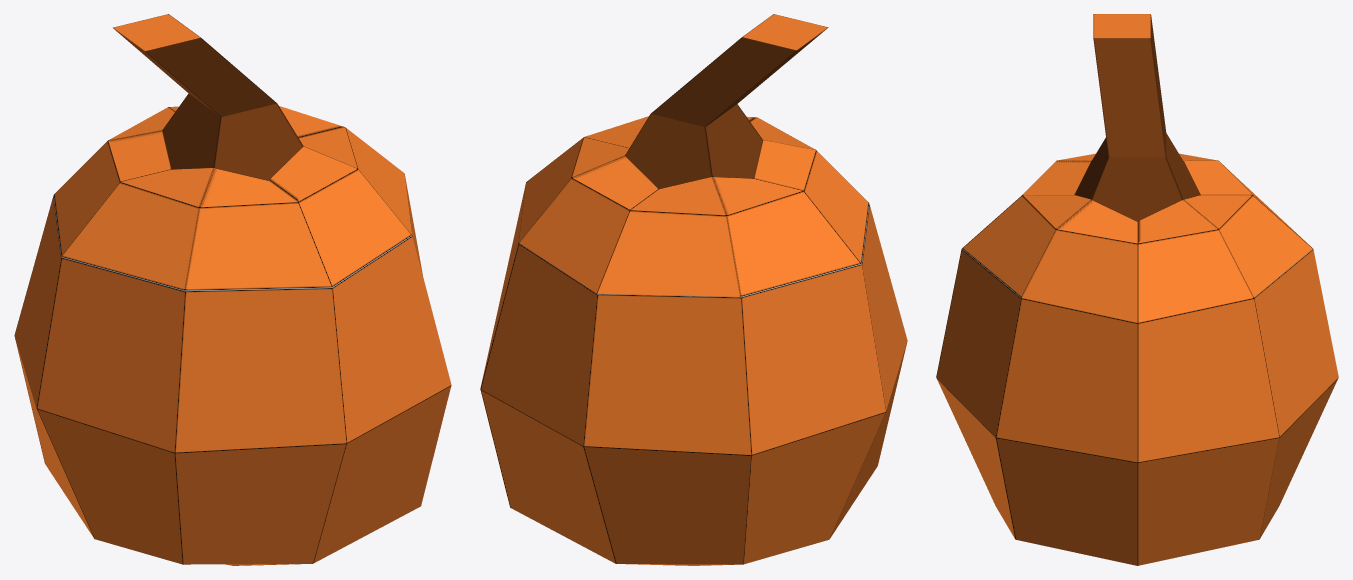
Rendered from fruit.obj.
The picture shows the model from 3 angles, left to right: view 1: azimuth 30°, elevation 25°; view 2: azimuth 150°, elevation 25°; view 3: azimuth 270°, elevation 25°; orthographic projection. The views are drawn at different scales.
Visible parts, largest first — view 1: Cube; view 2: Cube; view 3: Cube.
Boxes of the visible parts, x1=… form: Cube: x1=14, y1=14, x2=451, y2=565; Cube: x1=480, y1=14, x2=907, y2=565; Cube: x1=936, y1=14, x2=1338, y2=565.
Bounding box in the file's own units: 0.7546 × 1.03 × 0.7546.
Materials: 1 (1 with a texture image).
